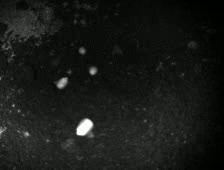corn: (74, 117, 96, 138), (54, 75, 71, 91), (76, 44, 89, 57), (87, 64, 100, 77)
